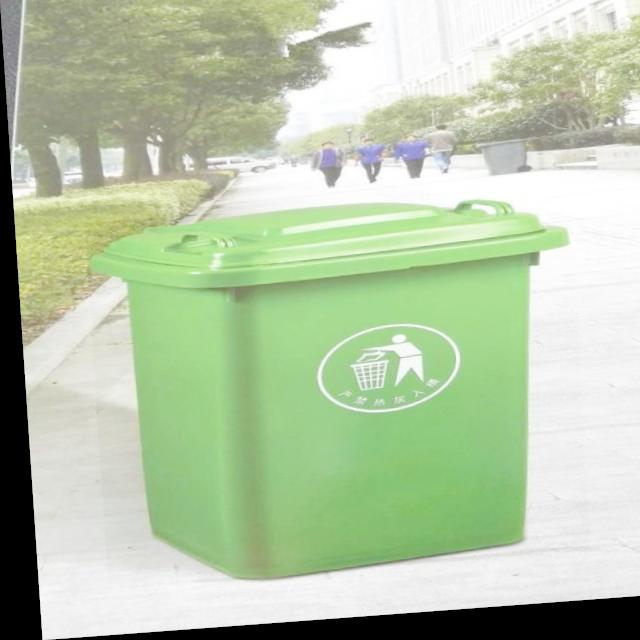garbage_bin: (81, 196, 583, 591)
